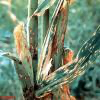Corn leaf blight: (35, 25, 100, 96), (33, 1, 72, 80), (1, 48, 35, 95)
